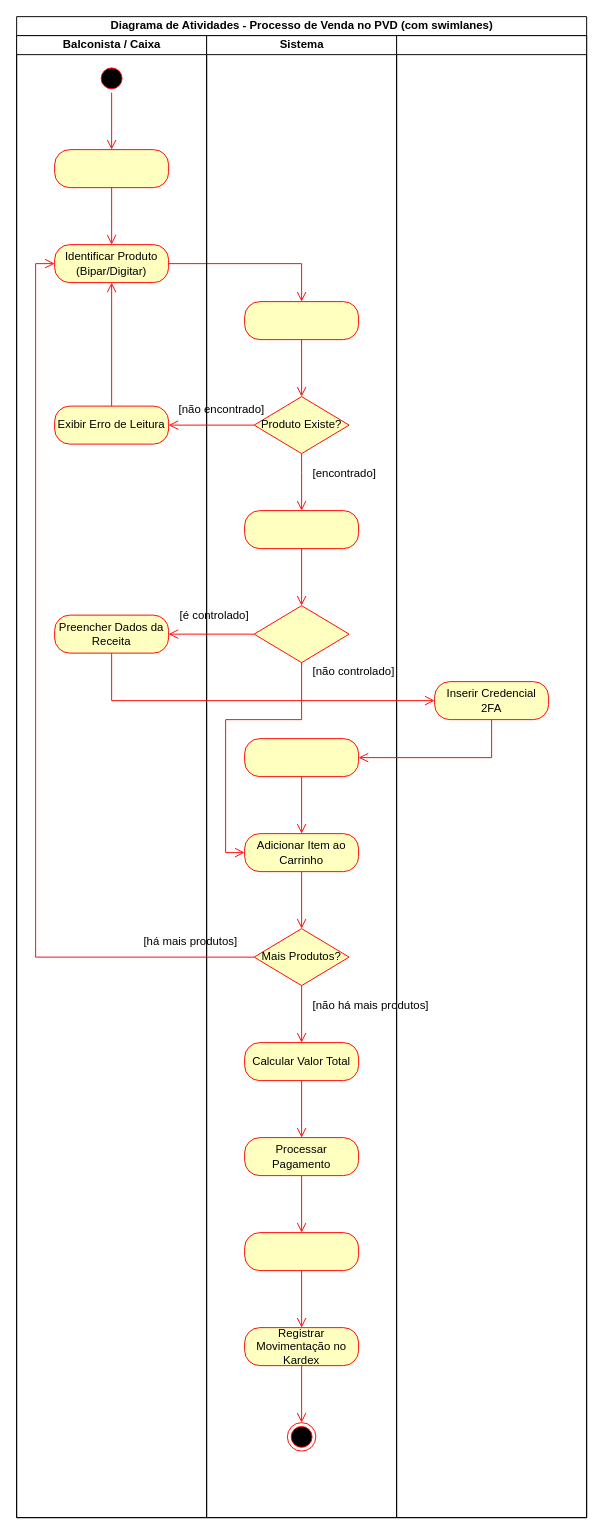
The diagram is 603 pixels wide and 1534 high, and some of its shapes have lost their labels. The shapes that lost their labels are listed below. From the top down, each one's box as (x1, y1, x2, y2) in pixels, then its label:
(54, 149, 169, 188): Iniciar Atendimento
(244, 301, 359, 340): Consultar Produto e Saldo
(244, 510, 359, 549): Verificar Tarja/Classificação
(253, 605, 349, 663): É Controlado?
(244, 738, 359, 777): Validar Autorização 2FA
(396, 35, 587, 1518): Farmacêutico Responsável
(244, 1232, 359, 1271): Abater Estoque Físico
